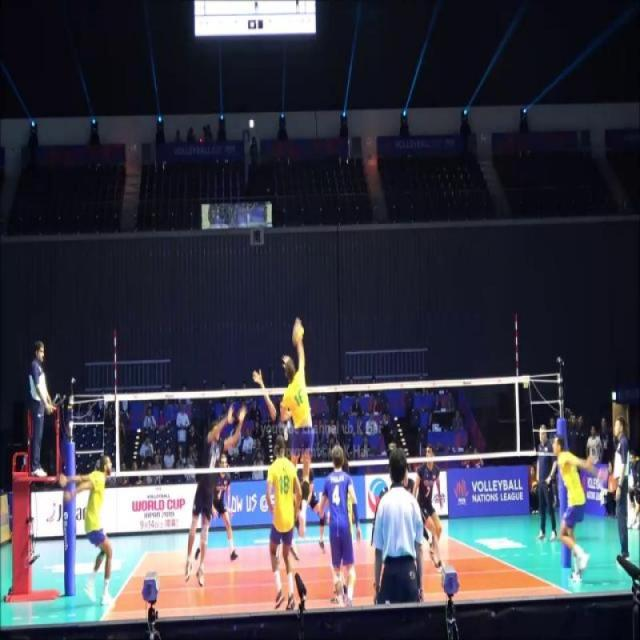volleyball: (291, 323, 306, 347), (532, 480, 538, 491)
